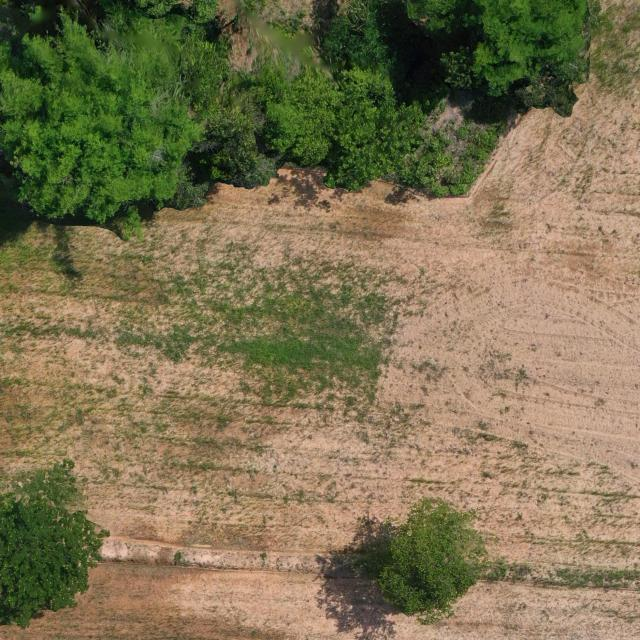Tree: (0, 0, 612, 234), (0, 2, 231, 217), (401, 0, 594, 116), (0, 496, 116, 628), (374, 493, 494, 620)
